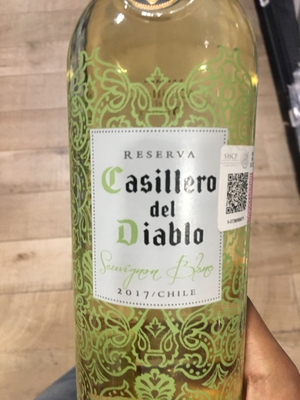casillero del diablo sauvignon blanc: (61, 8, 254, 400)
